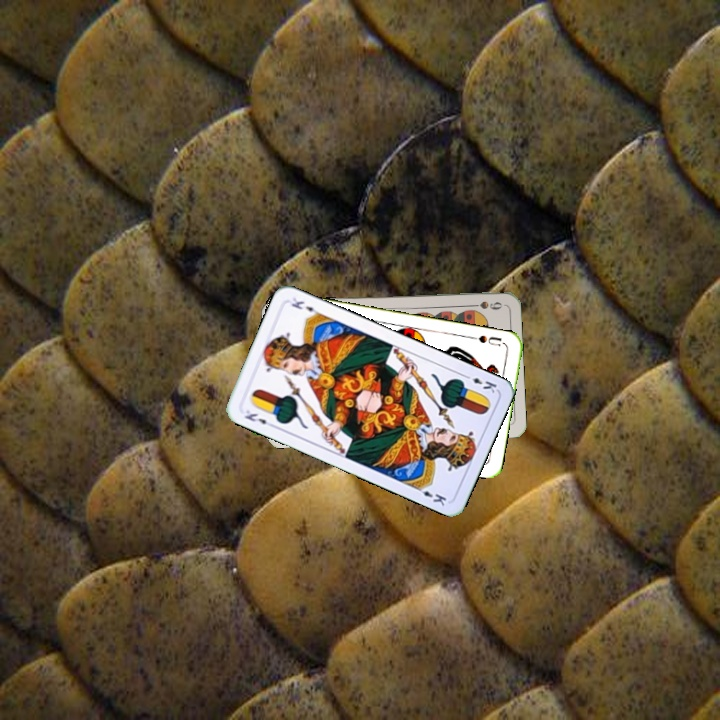EK: (460, 370, 499, 396), (240, 406, 277, 430)
S9: (464, 297, 505, 312)
SU: (467, 331, 507, 349)
